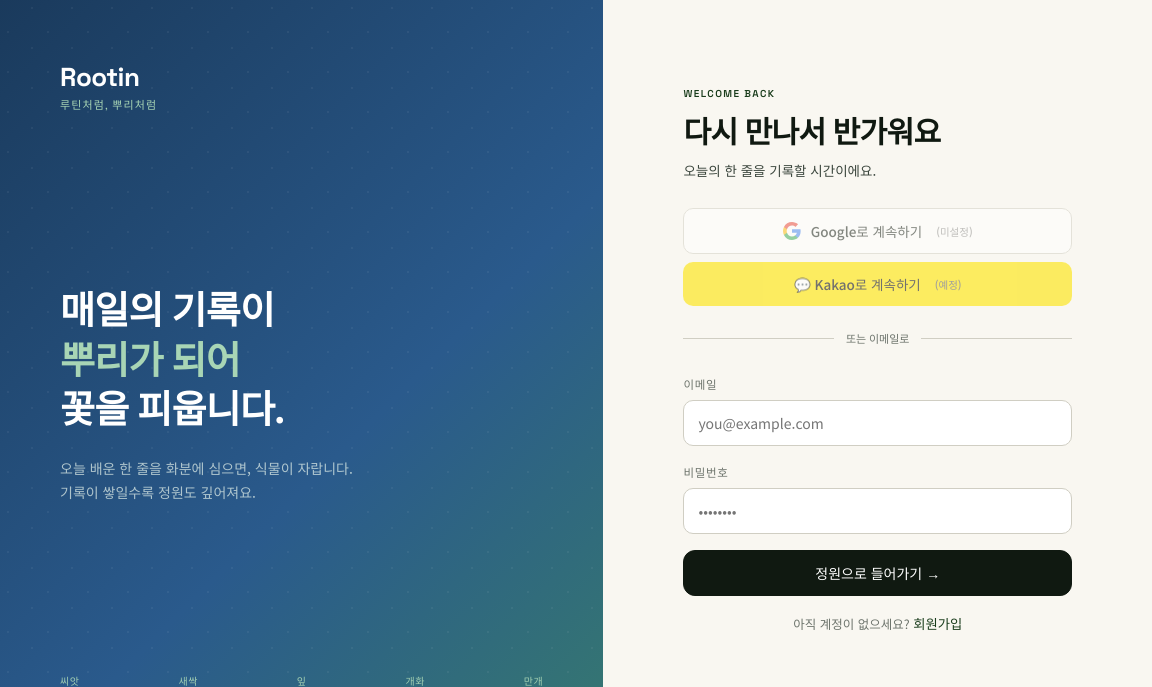
회원가입 API 연동 › 409 에러 시 이메일 중복 메시지가 표시된다
Step 1. Click the button "회원가입" → click(938, 624), box [913, 614, 962, 633]
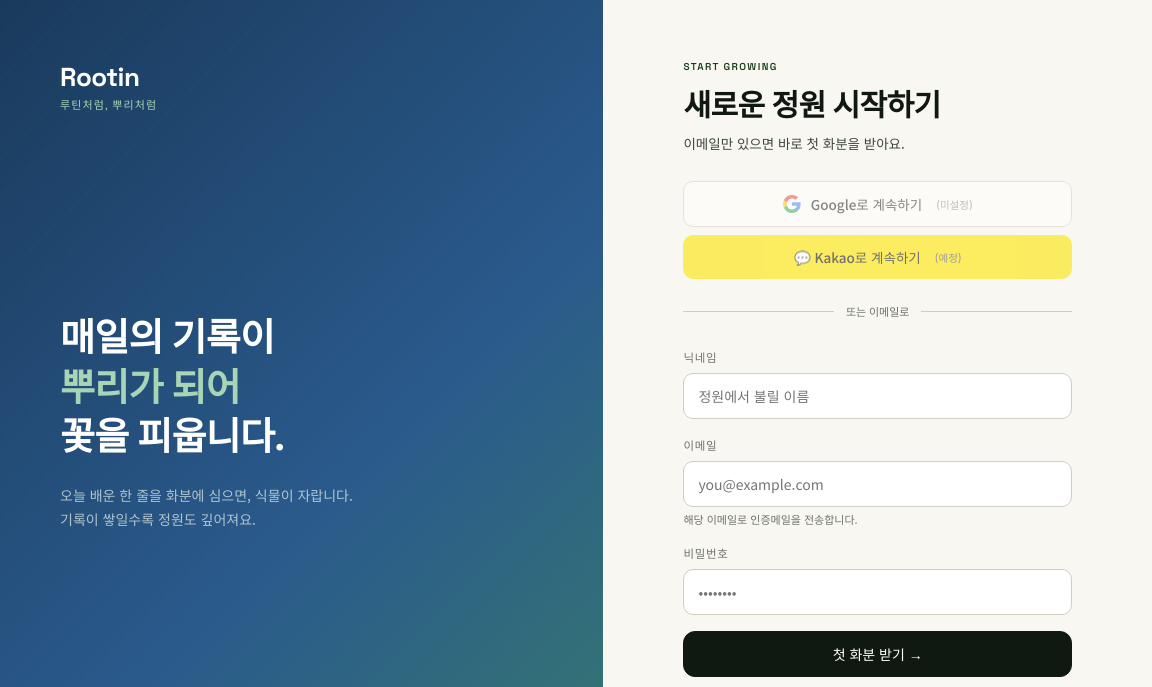
Step 2. Type "정원사" into the field with placeholder "정원에서 불릴 이름" → (878, 396), box [683, 373, 1072, 419]
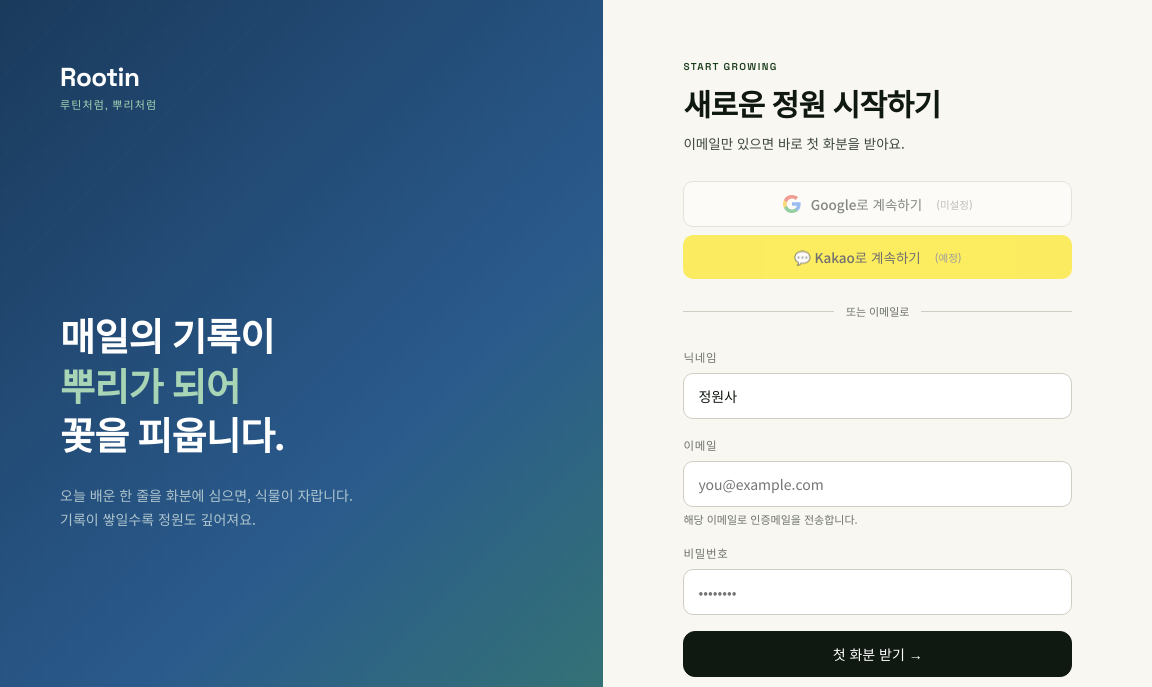
Step 3. Type "new@test.com" into the field with placeholder "you@example.com" → (878, 484), box [683, 461, 1072, 507]
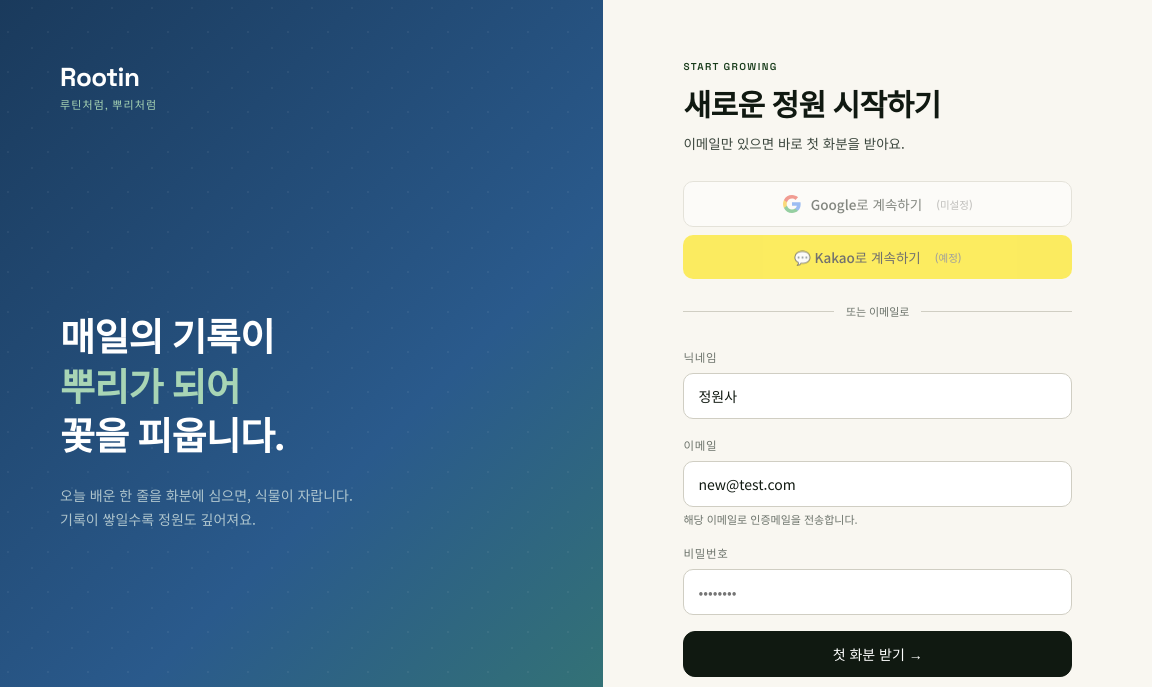
Step 4. Type "password123" into the password field with placeholder "••••••••" → (878, 592), box [683, 569, 1072, 615]
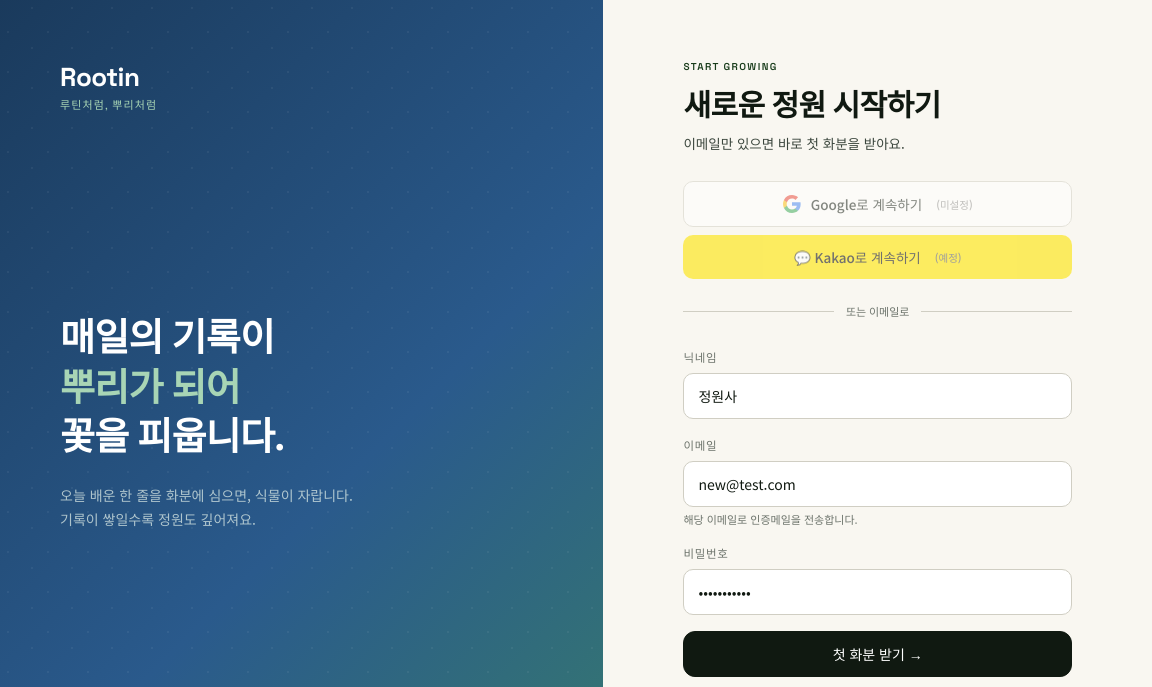
Step 5. Click the button "첫 화분 받기 →" → click(878, 654), box [683, 631, 1072, 677]
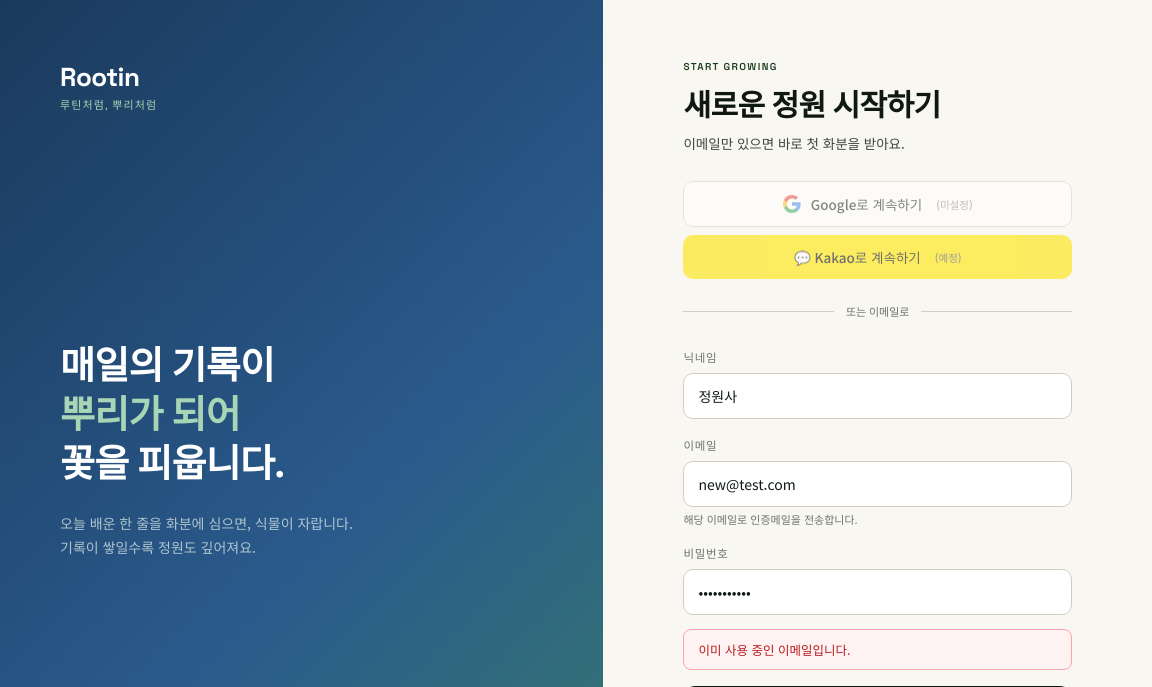
Expected: the text "이미 사용 중인 이메일입니다." is shown, [683, 629, 1072, 670]
